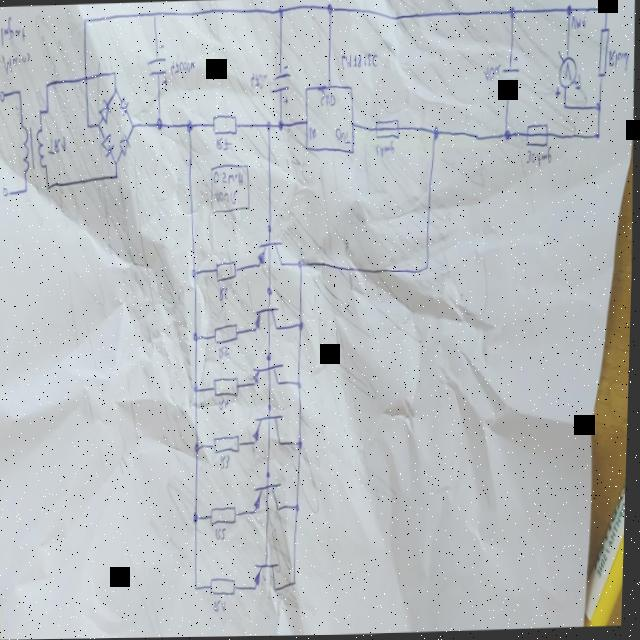capacitor: (144, 44, 167, 90), (268, 62, 290, 106), (498, 56, 520, 98)
crossover: (82, 73, 88, 85)
diode: (97, 97, 111, 125), (99, 133, 114, 159), (117, 134, 130, 158), (118, 96, 128, 118)
junction: (185, 118, 194, 135), (431, 126, 439, 143), (502, 128, 510, 144), (275, 5, 283, 21), (507, 5, 514, 21), (564, 4, 571, 18), (155, 118, 162, 132), (276, 119, 283, 133), (264, 120, 271, 134), (325, 3, 332, 17), (195, 442, 202, 455), (194, 512, 200, 526), (190, 268, 197, 280), (193, 384, 200, 396), (296, 379, 303, 391), (266, 287, 273, 299), (298, 319, 304, 332), (297, 257, 303, 270), (193, 332, 199, 344), (298, 439, 304, 451), (423, 263, 429, 275), (150, 11, 156, 21), (295, 503, 301, 513), (129, 121, 134, 133), (267, 403, 273, 412), (266, 226, 272, 235), (602, 6, 607, 16), (113, 172, 118, 182), (85, 122, 90, 132), (110, 69, 115, 79), (112, 87, 117, 97), (44, 106, 49, 116), (267, 470, 272, 480), (22, 187, 28, 195), (82, 16, 87, 25), (95, 121, 100, 130), (266, 354, 271, 363), (45, 181, 49, 191), (294, 578, 298, 588), (596, 104, 600, 114), (595, 133, 599, 142), (16, 88, 20, 97), (562, 103, 566, 112), (44, 80, 48, 89), (114, 159, 118, 168), (195, 585, 199, 593), (37, 109, 41, 117)
resistor: (595, 27, 609, 80), (213, 433, 241, 455), (211, 114, 236, 138), (213, 376, 239, 398), (211, 506, 238, 527), (214, 323, 238, 346), (210, 578, 237, 598), (215, 260, 236, 284)
terminal: (1, 187, 8, 197), (0, 89, 4, 104)
text: (339, 51, 377, 74), (0, 17, 26, 49), (0, 50, 29, 77), (525, 149, 552, 170), (607, 49, 629, 73), (168, 60, 194, 79), (215, 171, 243, 188), (213, 189, 237, 207), (46, 135, 66, 155), (480, 65, 500, 85), (374, 143, 394, 161), (248, 72, 266, 92), (318, 93, 335, 110), (569, 16, 585, 34), (215, 135, 232, 151), (334, 128, 349, 146), (218, 286, 229, 306), (216, 526, 229, 542), (215, 599, 229, 613), (218, 345, 230, 361), (218, 398, 231, 412), (220, 455, 231, 471), (308, 126, 315, 142)
transformer: (18, 123, 48, 173)
transistor: (251, 482, 285, 518), (252, 413, 287, 446), (253, 562, 281, 594), (252, 363, 285, 390), (256, 241, 284, 271), (254, 307, 281, 333)
